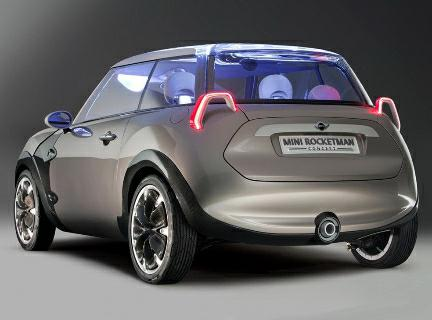MINI-ROCKETMAN: (7, 47, 426, 283)
